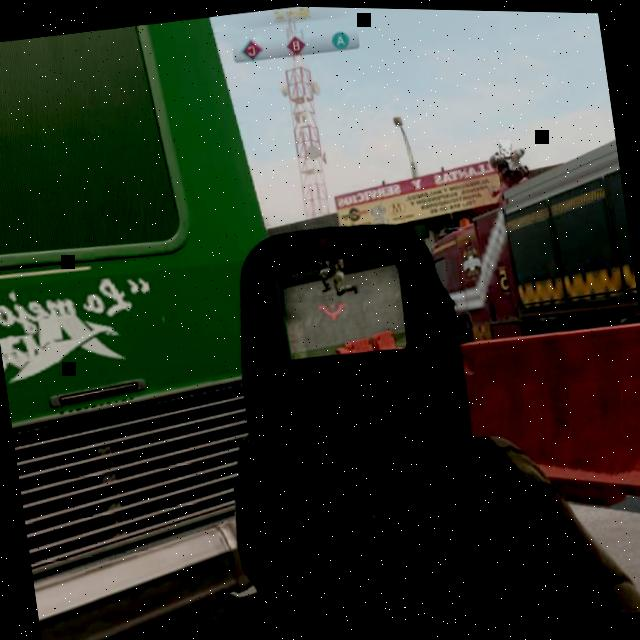MW2_body: (316, 256, 361, 298)
